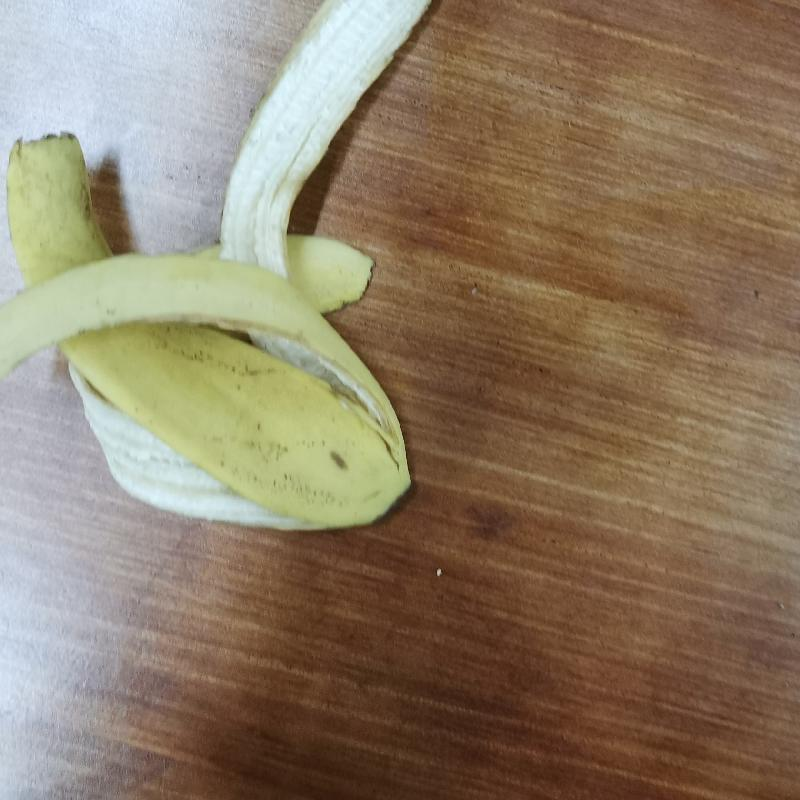bananas: (4, 4, 438, 529)
